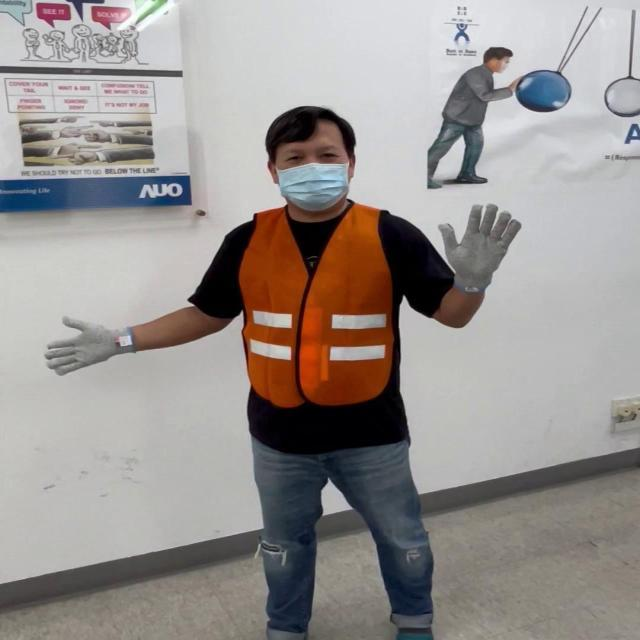gloved_hand: (442, 200, 527, 297), (36, 305, 132, 385)
